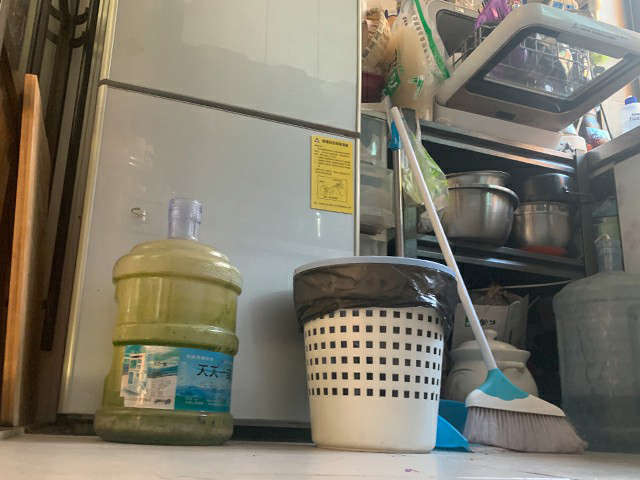trashcan: (292, 255, 459, 454)
